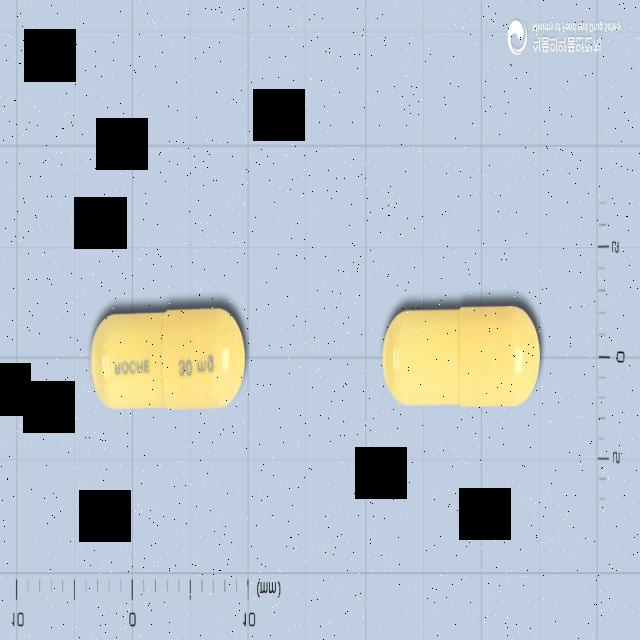Tamiflu Cap: (382, 306, 541, 408), (91, 306, 245, 411)
